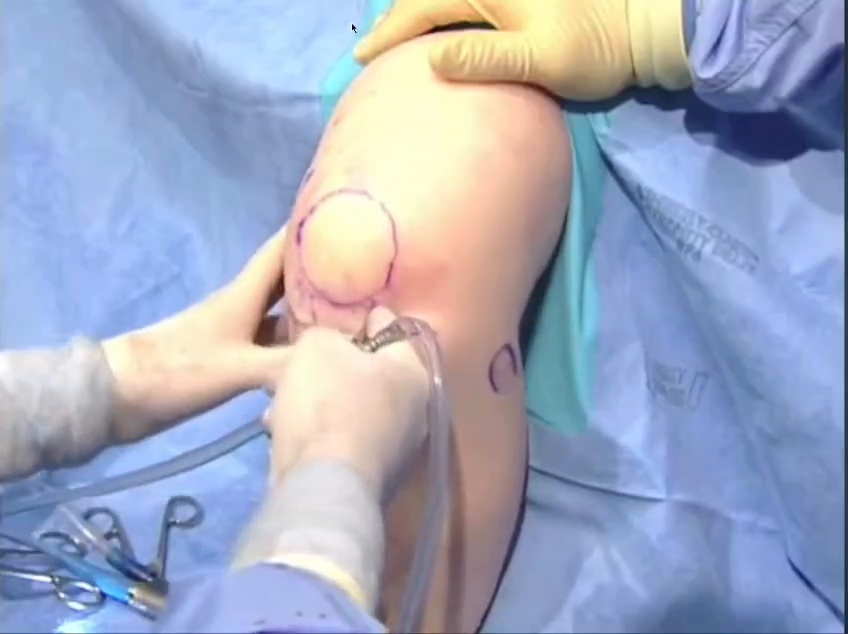arthroscope: (424, 14, 747, 634), (23, 129, 402, 501)
probe: (738, 125, 848, 634), (580, 0, 848, 117)
